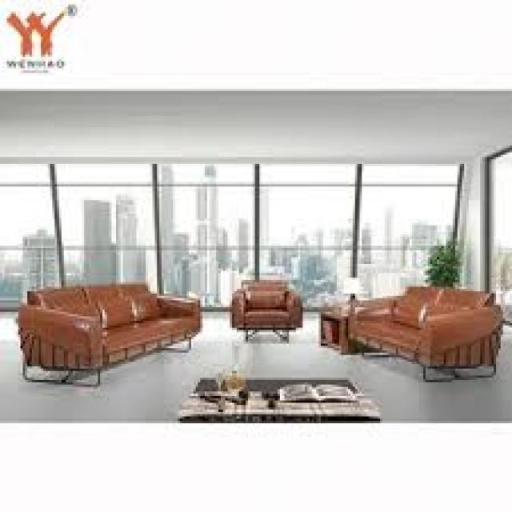sofa: (2, 246, 218, 423), (364, 254, 512, 428), (229, 242, 323, 378)
